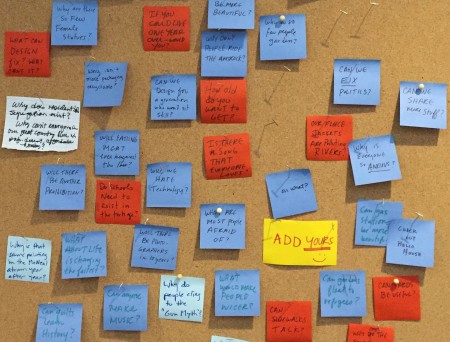stickynote: (3, 96, 81, 153), (263, 218, 338, 267), (348, 135, 403, 187), (266, 168, 318, 219), (371, 275, 422, 323), (386, 220, 434, 269), (400, 81, 447, 130), (202, 133, 252, 179), (4, 31, 51, 79), (142, 6, 190, 53), (199, 77, 247, 124), (306, 115, 353, 163), (354, 200, 402, 247), (319, 270, 367, 317), (4, 235, 50, 283), (131, 225, 179, 271), (39, 164, 86, 210), (61, 232, 108, 278), (96, 180, 143, 226), (198, 204, 246, 249), (213, 271, 261, 316), (334, 60, 380, 106), (94, 130, 140, 176), (145, 163, 191, 209), (102, 285, 148, 331), (260, 15, 307, 60), (50, 2, 98, 46), (201, 32, 247, 77), (150, 74, 196, 119), (266, 300, 313, 342), (83, 62, 126, 107), (34, 303, 82, 342)
